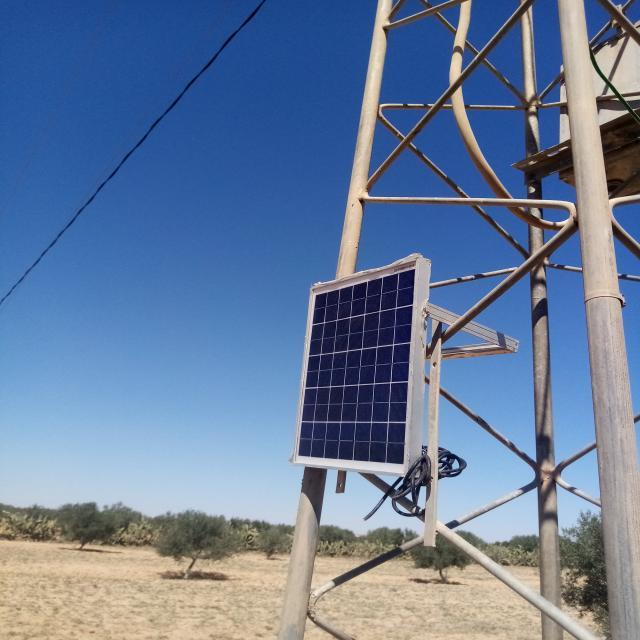no faulty: (292, 258, 418, 475)
